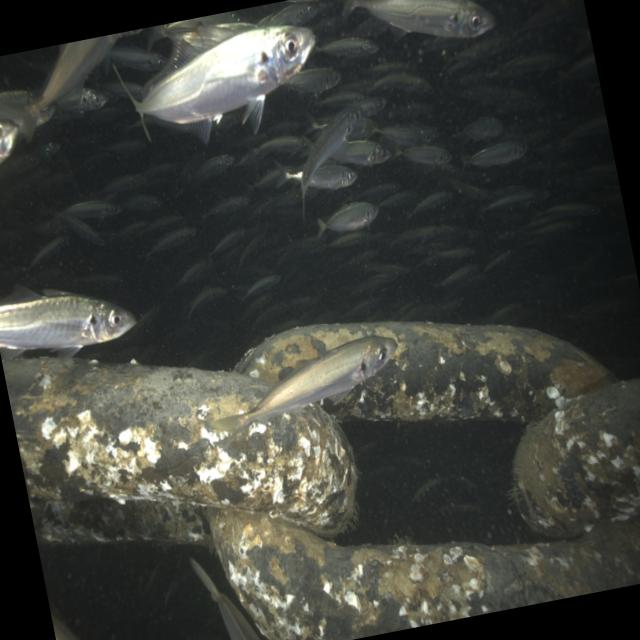ChainLink: (3, 357, 356, 544), (208, 510, 640, 640), (236, 322, 614, 424), (514, 380, 640, 539)
